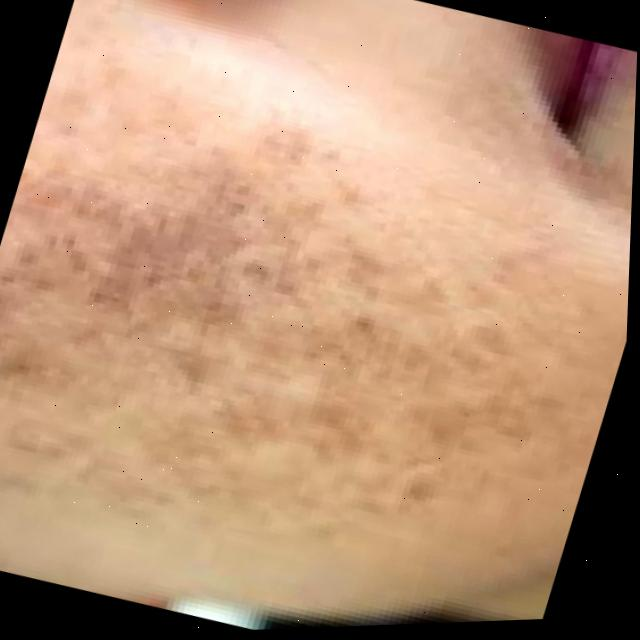Melasma: (0, 112, 566, 577)
